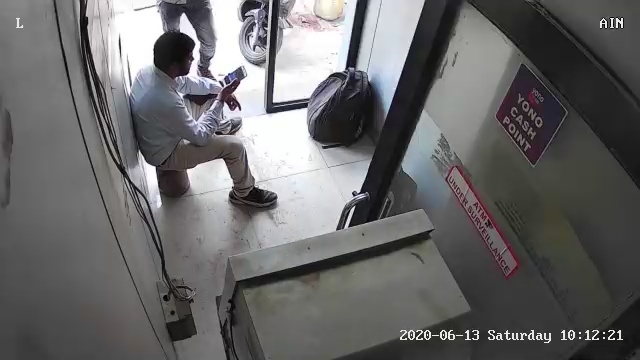open: (127, 5, 398, 170)
